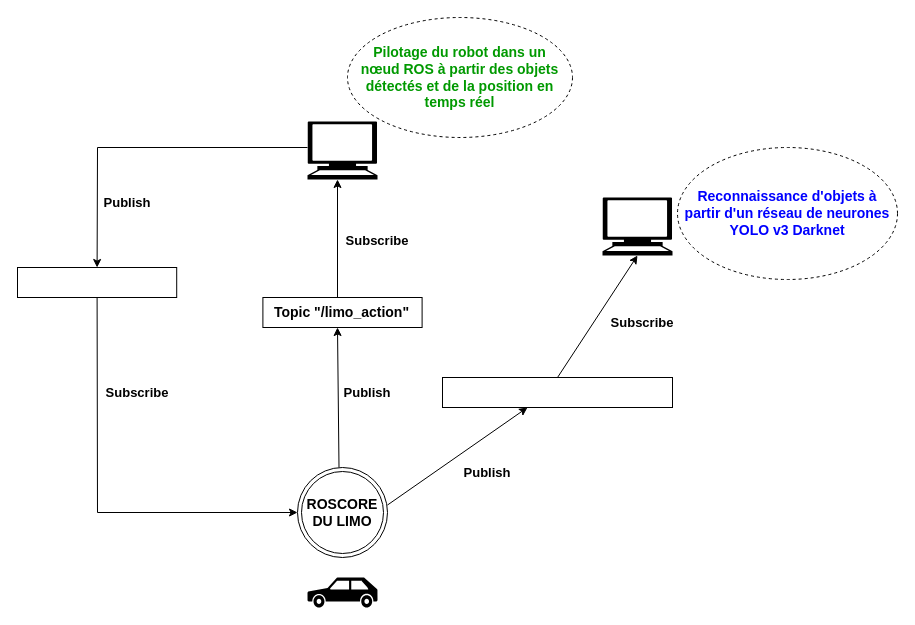
The diagram is 915 pixels wide and 625 high, and some of its shapes have lost their labels. The centre of each missing label's shape, as x and y in pixels:
Topic "/camera/rgb/image_raw": (x=557, y=392)
Topic "/cmd_vel": (x=96, y=282)
